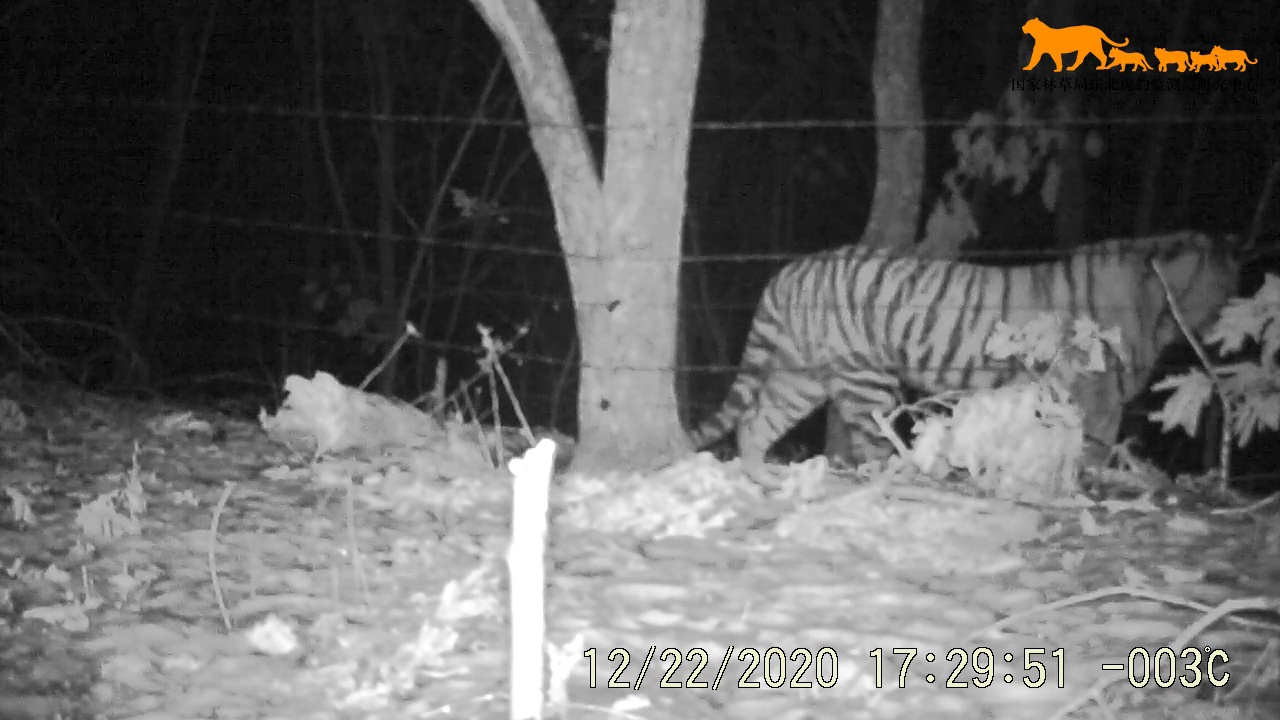Tiger: (671, 162, 1280, 525)
